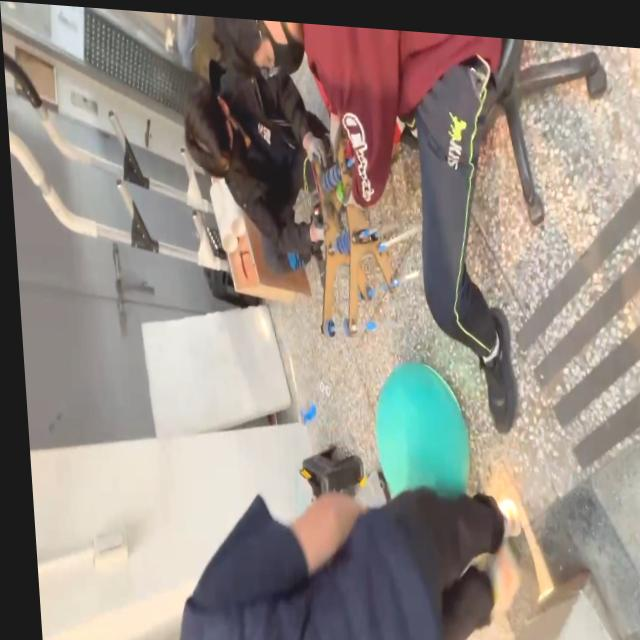ALGAE: (369, 356, 475, 507)
